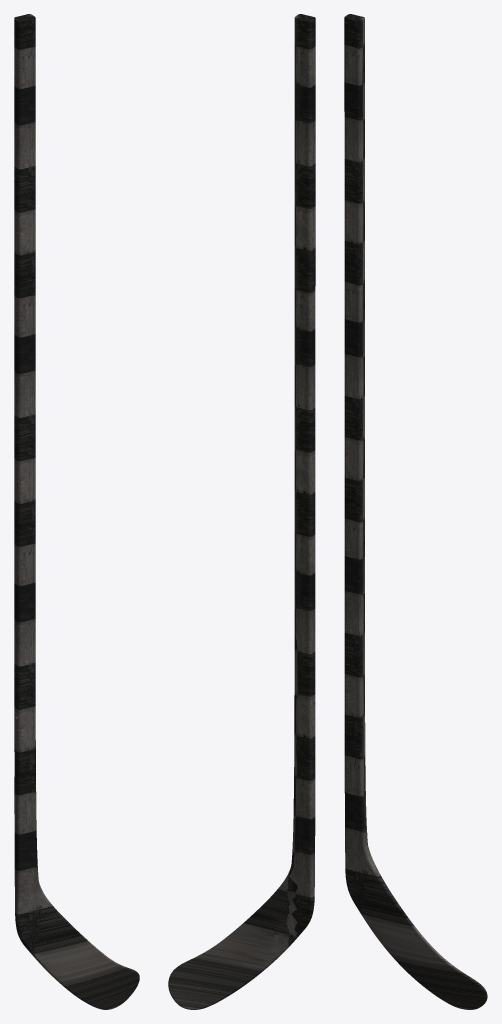
File: P29M-ST-LIE4_0.glb
The picture shows the model from 3 angles, left to right: view 1: azimuth 30°, elevation 25°; view 2: azimuth 150°, elevation 25°; view 3: azimuth 330°, elevation 25°; orthographic projection. The views are drawn at different scales.
Visible parts, largest first — view 1: geometry_0; view 2: geometry_0; view 3: geometry_0.
Boxes of the visible parts, bbox=[...] form: geometry_0: bbox=[14, 14, 139, 1009]; geometry_0: bbox=[168, 14, 315, 1009]; geometry_0: bbox=[344, 14, 487, 1009].
Bounding box in the file's own units: 228 × 1650 × 55.07.
1 material, 1 textured.
